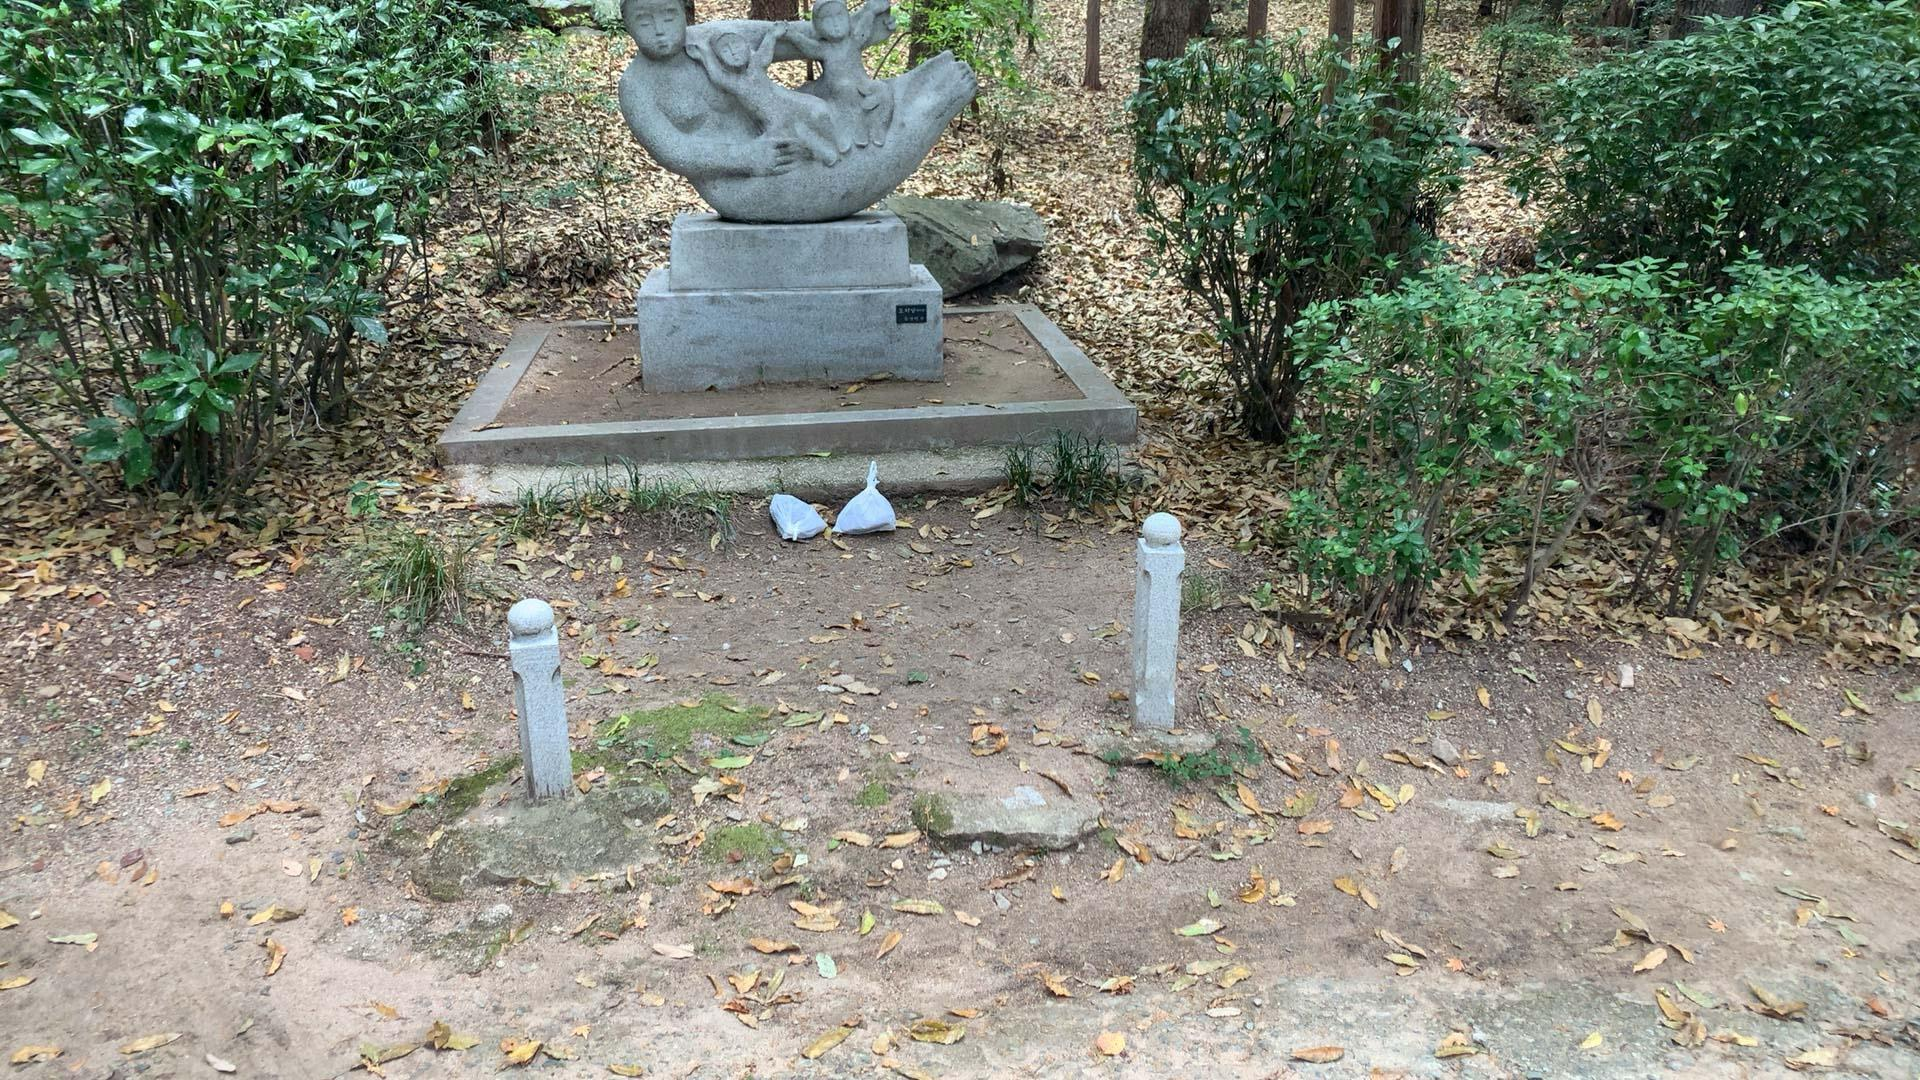white_bag: (820, 458, 903, 538), (761, 487, 829, 547)
